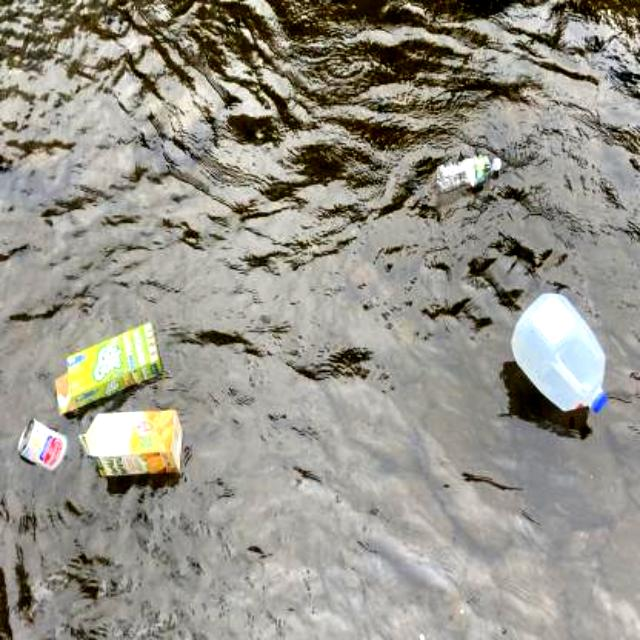Cardboard: (50, 316, 168, 428), (69, 406, 189, 486)
Metal: (15, 418, 71, 474)
Plastic: (508, 288, 612, 422), (427, 146, 508, 194)
